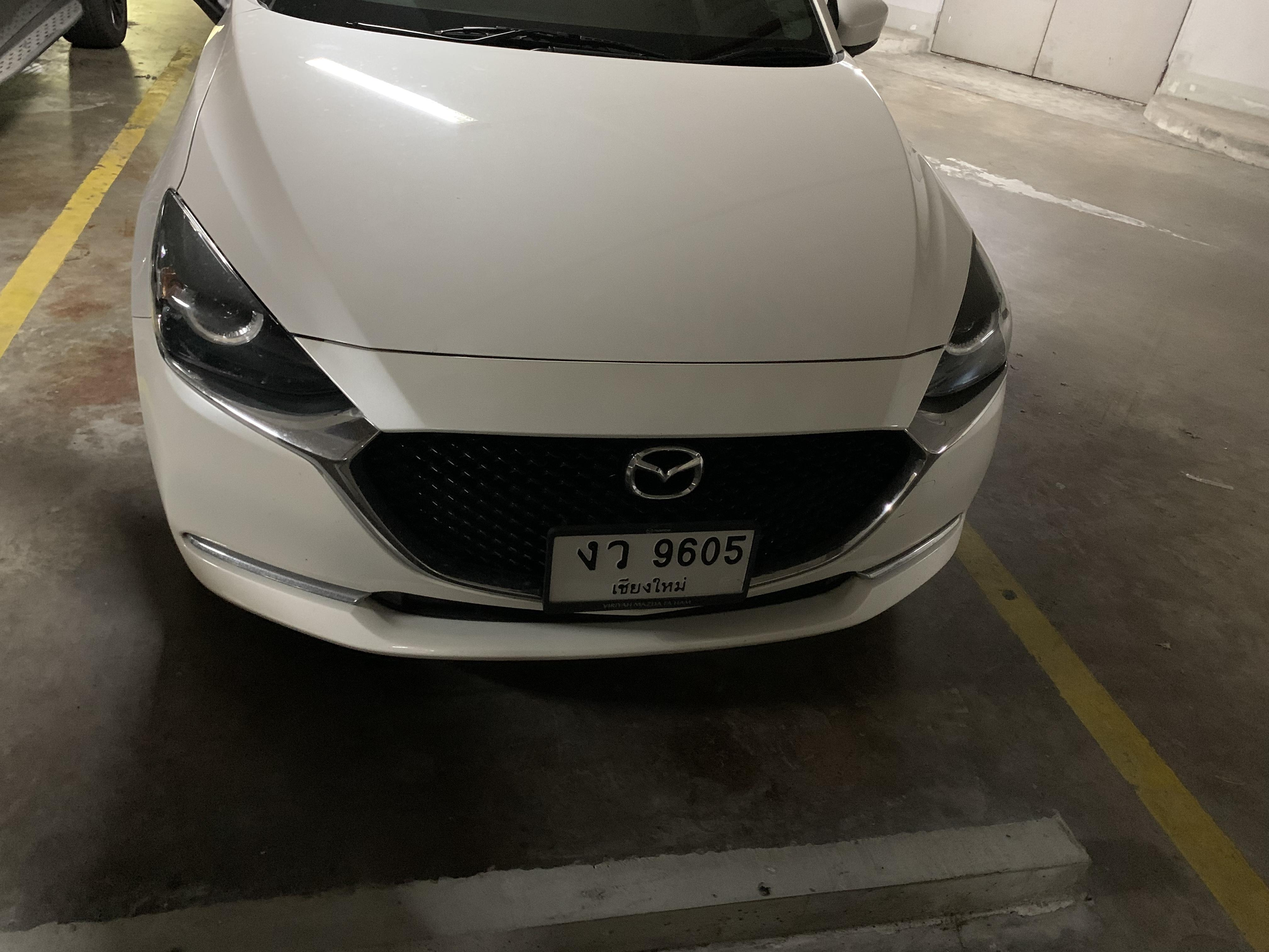license-plate: (542, 523, 754, 612)
